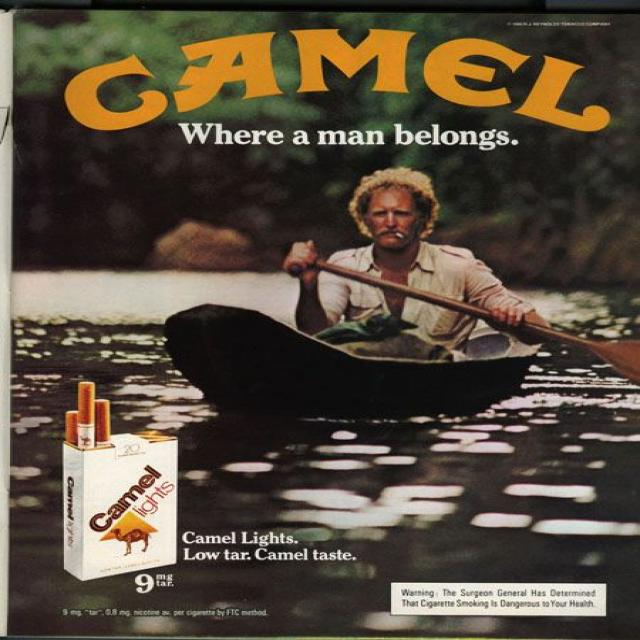cigarette: (394, 232, 405, 240)
